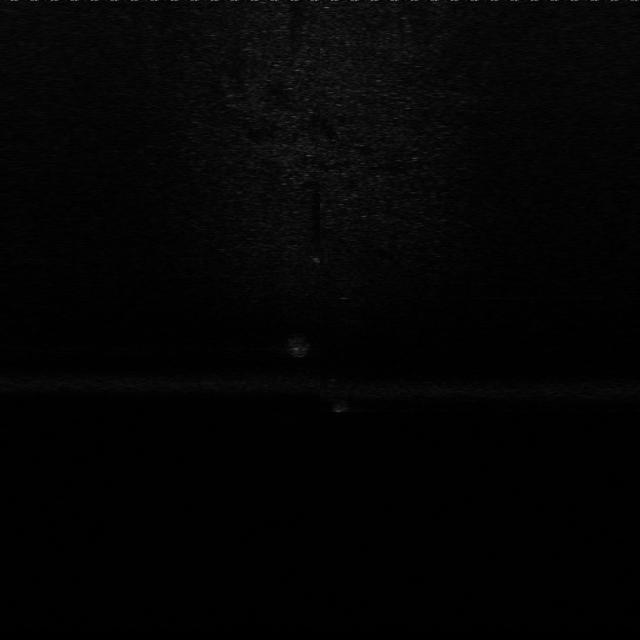ball: (302, 240, 337, 266)
circle cage: (282, 326, 319, 359)
tyre: (321, 373, 362, 415)
